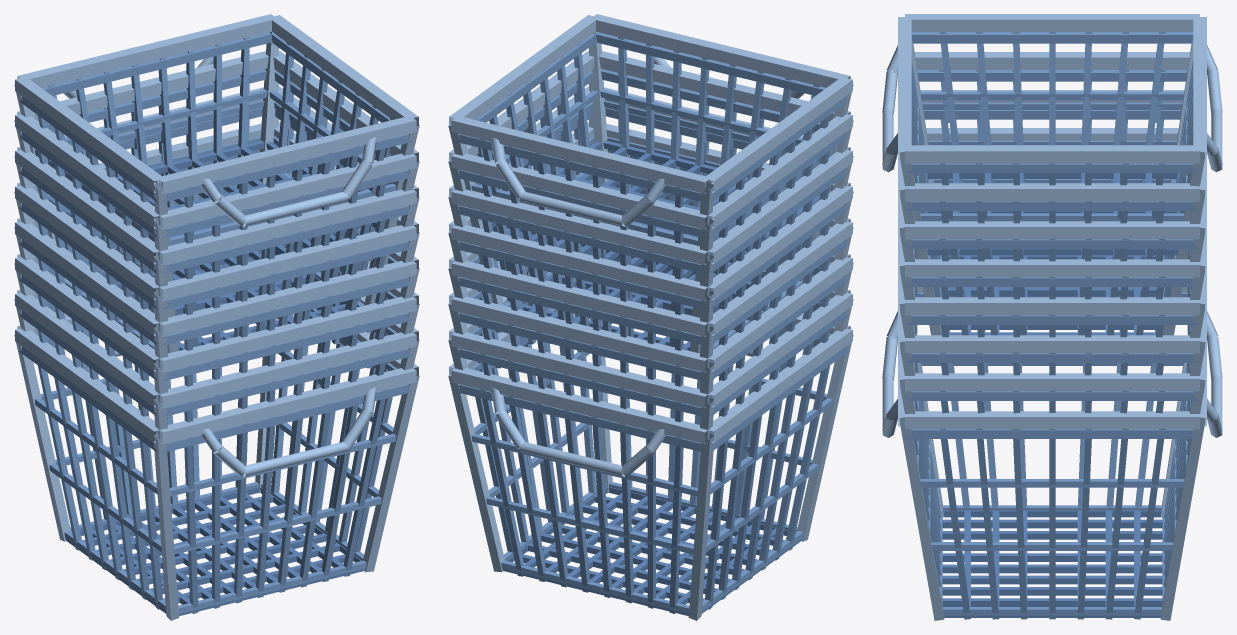
Rendered from Prop_BasketNest_B.fbx.
The picture shows the model from 3 angles, left to right: view 1: azimuth 30°, elevation 25°; view 2: azimuth 150°, elevation 25°; view 3: azimuth 270°, elevation 25°; orthographic projection. The views are drawn at different scales.
Visible parts, largest first — view 1: Prop_BasketNest_B; view 2: Prop_BasketNest_B; view 3: Prop_BasketNest_B.
Part boxes in pixels (left/top/right/bottom): Prop_BasketNest_B: left=14, top=14, right=419, bottom=620; Prop_BasketNest_B: left=448, top=14, right=853, bottom=620; Prop_BasketNest_B: left=882, top=14, right=1222, bottom=620.
Bounding box in the file's own units: 1.55 × 2.56 × 1.62.
